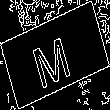M_N: (32, 24, 78, 86)
